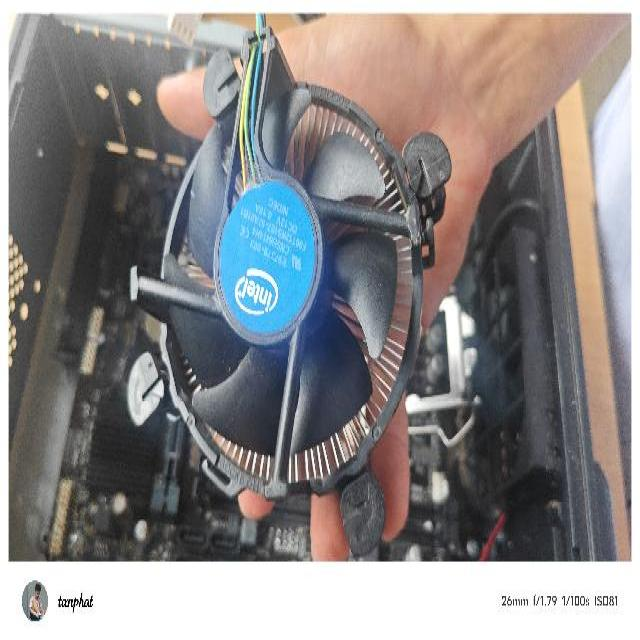CPU_Fan: (124, 12, 452, 561)
